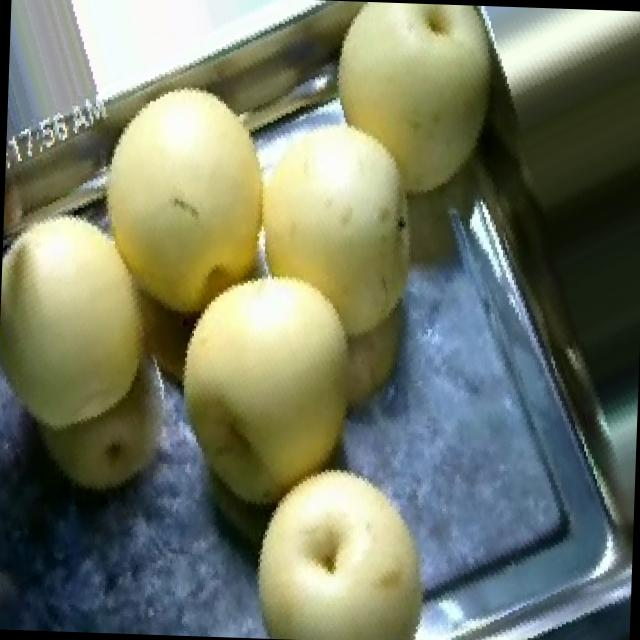Fruit: (149, 235, 423, 530), (61, 51, 317, 349), (227, 94, 460, 358), (300, 0, 525, 217), (0, 175, 176, 447), (236, 441, 461, 640)
